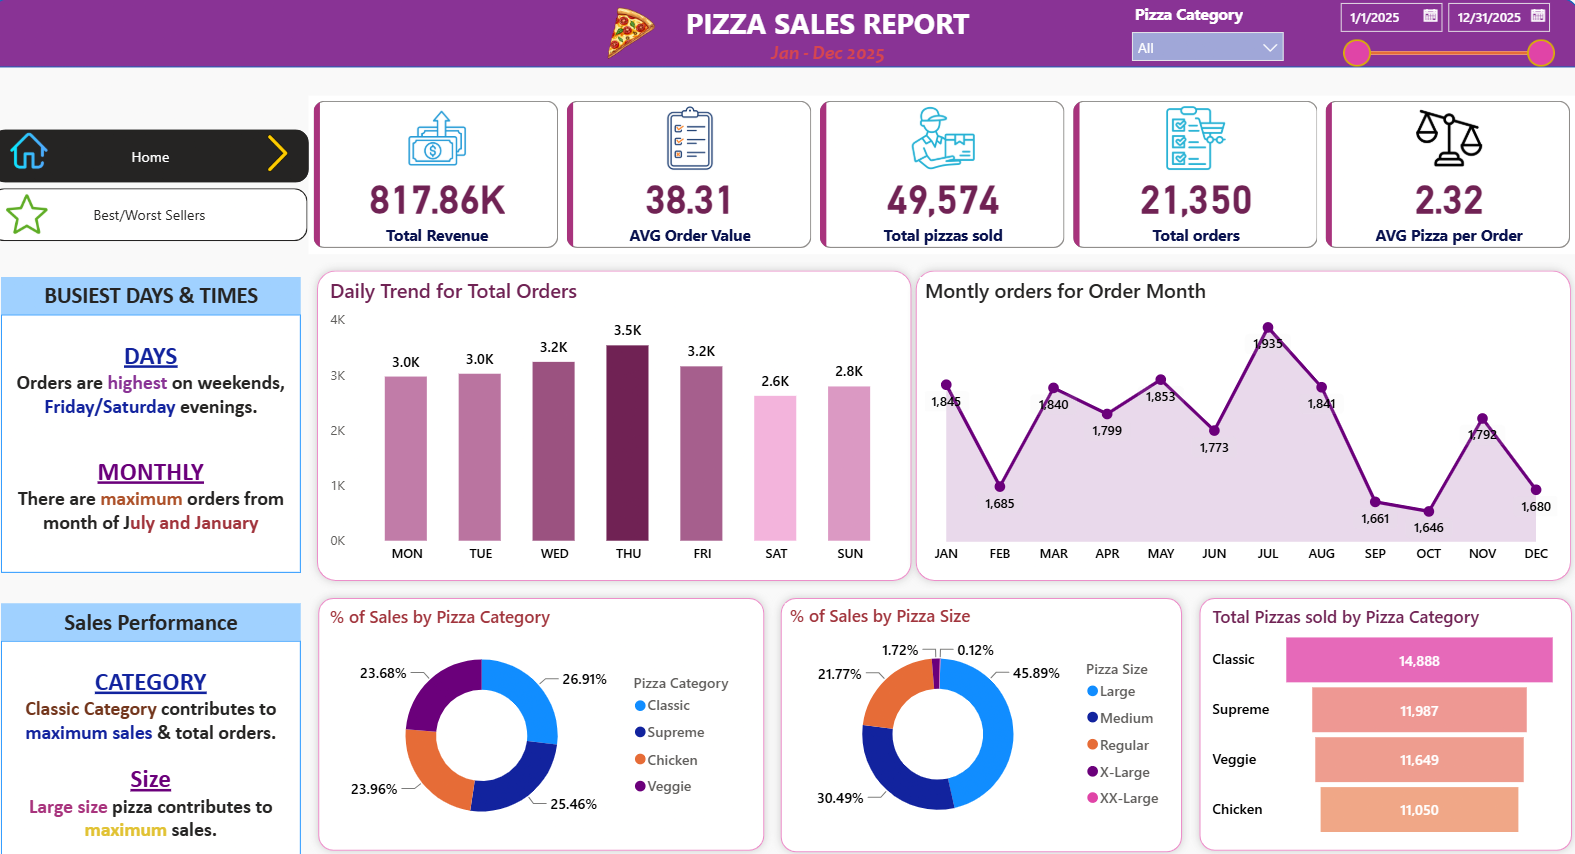

The page's visual inventory and layout, read from the dashboard file:
{"tool":"powerbi","page":{"name":"Home","canvas":[1500,820],"ordinal":0},"visuals":[{"type":"cardVisual","fields":{"Data":["Measures_Created.Total Revenue","Measures_Created.AVG Order Value","Measures_Created.Total pizzas sold","Measures_Created.Total orders","Measures_Created.AVG Pizza per Order"]},"box":[299.8,98.1,1200.5,149.9],"z":0},{"type":"shape","box":[0,5.5,1500.3,65.4],"z":1000},{"type":"textbox","box":[642.5,6.2,296.2,77.5],"z":2000},{"type":"image","box":[565,6.2,77.5,67.5],"z":3000},{"type":"shape","box":[299.8,254.8,577.8,309.3],"z":4000},{"type":"columnChart","title":"Daily Trend for Total Orders","fields":{"Category":["pizza_sales_f.Order Day"],"Y":["Measures_Created.Total orders"]},"box":[314.8,269.8,550.5,279.3],"z":5000},{"type":"shape","box":[865.3,254.8,635,309.3],"z":6000},{"type":"stackedAreaChart","title":"Montly orders for Order Month","fields":{"Category":["pizza_sales_f.Order Month"],"Y":["Measures_Created.Total orders"]},"box":[877.5,269.8,607.7,279.3],"z":7000},{"type":"shape","box":[301.1,564.1,437.4,254.8],"z":8000},{"type":"shape","box":[738.6,564.1,395.2,256.2],"z":9000},{"type":"shape","box":[1133.7,564.1,367.9,254.8],"z":10000},{"type":"donutChart","title":"% of Sales by Pizza Category","fields":{"Category":["pizza_sales_f.pizza_category"],"Y":["Measures_Created.Total Revenue"]},"box":[314.8,579.1,408.8,226.2],"z":11000},{"type":"donutChart","title":"% of Sales by Pizza Size","fields":{"Category":["pizza_sales_f.pizza_size"],"Y":["Measures_Created.Total Revenue"]},"box":[749.5,577.8,370.6,226.2],"z":12000},{"type":"funnel","title":"Total Pizzas sold by Pizza Category","fields":{"Category":["pizza_sales_f.pizza_category"],"Y":["Measures_Created.Total pizzas sold"]},"box":[1148.7,579.1,336.6,224.8],"z":13000},{"type":"textbox","box":[9.5,269.8,283.4,35.4],"z":14000},{"type":"textbox","box":[9.5,305.2,283.4,243.9],"z":15000},{"type":"textbox","box":[9.5,577.8,283.4,35.4],"z":16000},{"type":"textbox","box":[9.5,613.2,283.4,207.1],"z":17000},{"type":"slicer","fields":{"Values":["pizza_sales_f.pizza_category"]},"box":[1067,5.5,163.5,62.7],"z":18000},{"type":"slicer","fields":{"Values":["pizza_sales_f.order_date"]},"box":[1261.8,0,223.5,79],"z":19000},{"type":"pageNavigator","box":[1.4,129.5,299,50],"z":19001},{"type":"pageNavigator","box":[0,185.3,299,50],"z":19002},{"type":"image","box":[241.2,129.5,60,45],"z":19003},{"type":"image","box":[9.5,128.1,53.1,45],"z":19004},{"type":"image","box":[9.5,185.3,49.1,49.1],"z":19005}]}

Visuals, with their boxes in screenshot pixels (x1, y1, x2, y2), scaled from the page's 1500x820 canvas onto the 1575x854 screenshot:
cardVisual - Measures_Created.Total Revenue x Measures_Created.AVG Order Value: [315,102,1574,258]
shape: [0,6,1574,74]
textbox: [675,6,986,87]
image: [593,6,675,77]
shape: [315,265,921,587]
"Daily Trend for Total Orders" columnChart: [331,281,909,572]
shape: [909,265,1574,587]
"Montly orders for Order Month" stackedAreaChart: [921,281,1559,572]
shape: [316,587,775,853]
shape: [776,587,1190,853]
shape: [1190,587,1574,853]
"% of Sales by Pizza Category" donutChart: [331,603,760,839]
"% of Sales by Pizza Size" donutChart: [787,602,1176,837]
"Total Pizzas sold by Pizza Category" funnel: [1206,603,1560,837]
textbox: [10,281,308,318]
textbox: [10,318,308,572]
textbox: [10,602,308,639]
textbox: [10,639,308,853]
slicer - pizza_sales_f.pizza_category: [1120,6,1292,71]
slicer - pizza_sales_f.order_date: [1325,0,1560,82]
pageNavigator: [1,135,315,187]
pageNavigator: [0,193,314,245]
image: [253,135,316,182]
image: [10,133,66,180]
image: [10,193,62,244]
